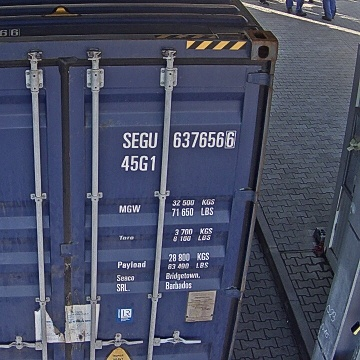serial_id: (122, 131, 234, 148)
